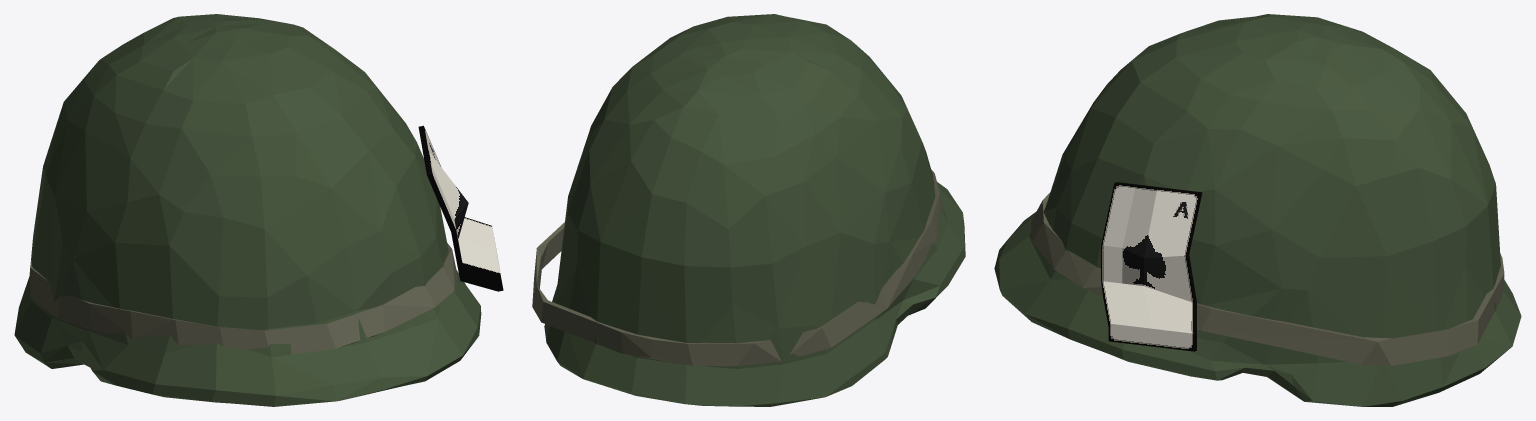
File: m1_ace.glb
3 views of the same model, side by side, from view 1: azimuth 30°, elevation 25°; view 2: azimuth 150°, elevation 25°; view 3: azimuth 270°, elevation 25° (orthographic). The views are drawn at different scales.
Parts seen in each view (by area): view 1: helmet_ace_cover, helmet_ace_band, helmet_ace_card_ace; view 2: helmet_ace_cover, helmet_ace_band; view 3: helmet_ace_cover, helmet_ace_card_ace, helmet_ace_band.
Boxes of the visible parts, left/top/right/bottom form: helmet_ace_cover: left=14, top=14, right=481, bottom=406; helmet_ace_band: left=30, top=243, right=457, bottom=354; helmet_ace_card_ace: left=418, top=125, right=503, bottom=291; helmet_ace_cover: left=544, top=14, right=965, bottom=406; helmet_ace_band: left=532, top=169, right=943, bottom=366; helmet_ace_cover: left=994, top=14, right=1521, bottom=406; helmet_ace_card_ace: left=1101, top=182, right=1202, bottom=351; helmet_ace_band: left=1031, top=192, right=1504, bottom=365.
Bounding box in the file's own units: 0.2523 × 0.1917 × 0.3044.
3 materials, 1 textured.
